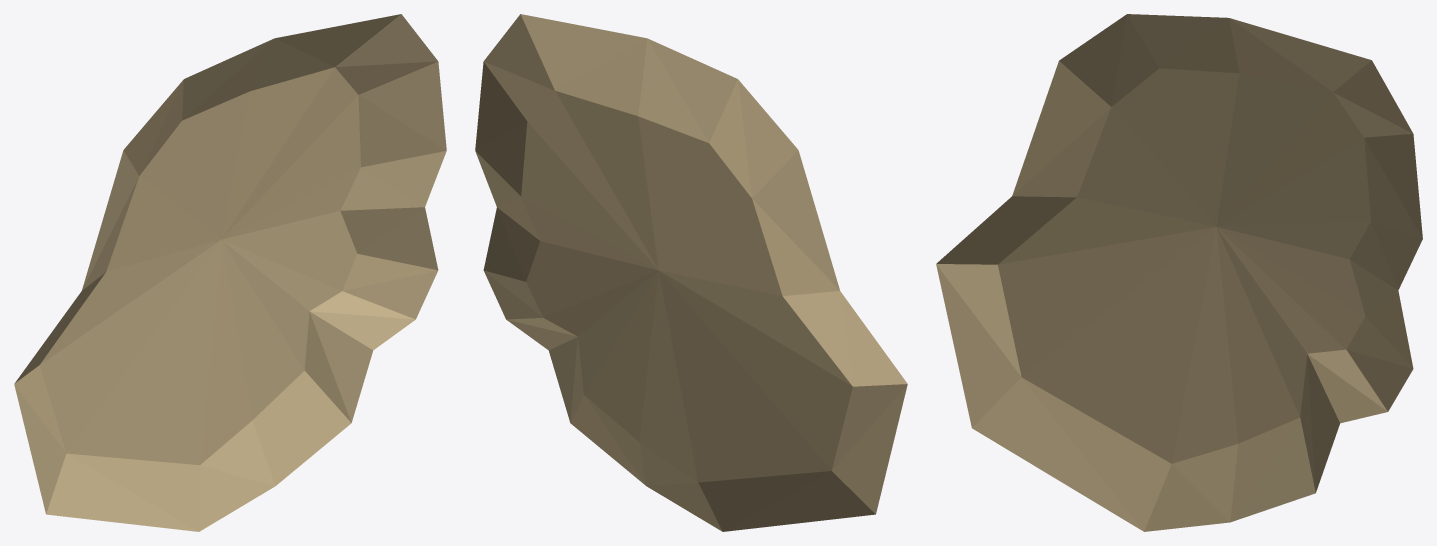
Rendered from Shore 01.FBX.
The picture shows the model from 3 angles, left to right: view 1: azimuth 30°, elevation 25°; view 2: azimuth 150°, elevation 25°; view 3: azimuth 330°, elevation 25°; orthographic projection. The views are drawn at different scales.
Visible parts, largest first — view 1: Shore 01; view 2: Shore 01; view 3: Shore 01.
Boxes of the visible parts, left/top/right/bottom form: Shore 01: left=14, top=14, right=446, bottom=531; Shore 01: left=475, top=14, right=907, bottom=531; Shore 01: left=936, top=14, right=1422, bottom=531.
Size of the model in its own units: 192 by 202 by 16.08.
